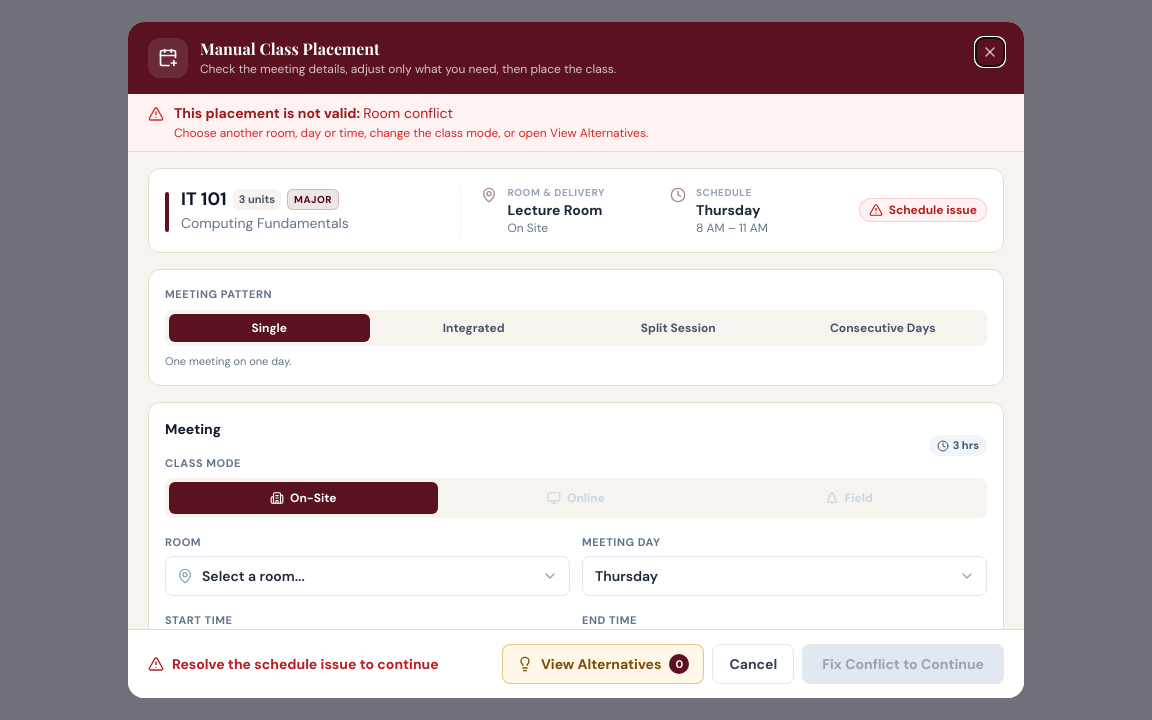
Test: DropModal manual placement support › lists a conflicting placement's alternatives in their own dialog, and withdraws them once it is valid
The image size is (1152, 720).
Check: the dialog "Suggested Alternatives" is not shown
Click the button with aria-label "View Alternatives, 0 valid options": click(603, 664) [502,644,704,684]
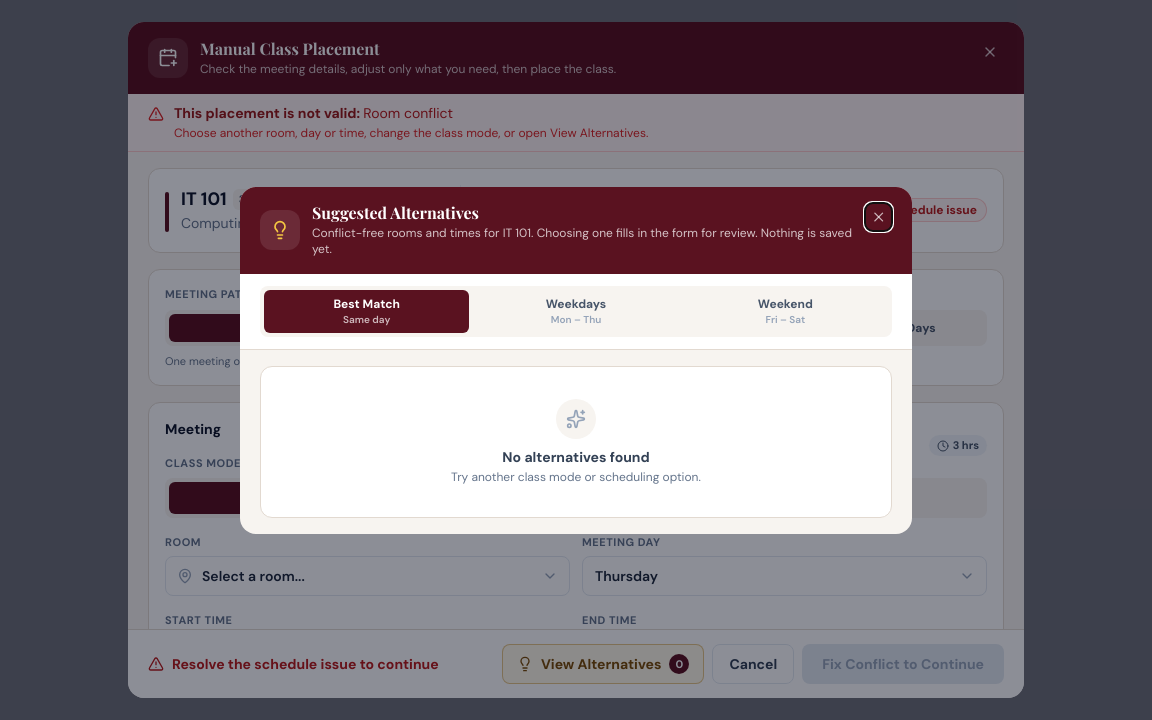
Check: the dialog "Suggested Alternatives" is shown, box [240,186,912,534]
Check: the text "No alternatives found" is shown, box [502,446,650,466]
